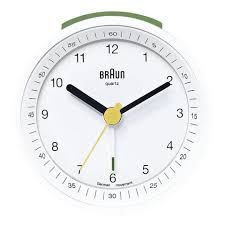alarm_clock: (19, 10, 204, 207), (29, 10, 204, 207)
